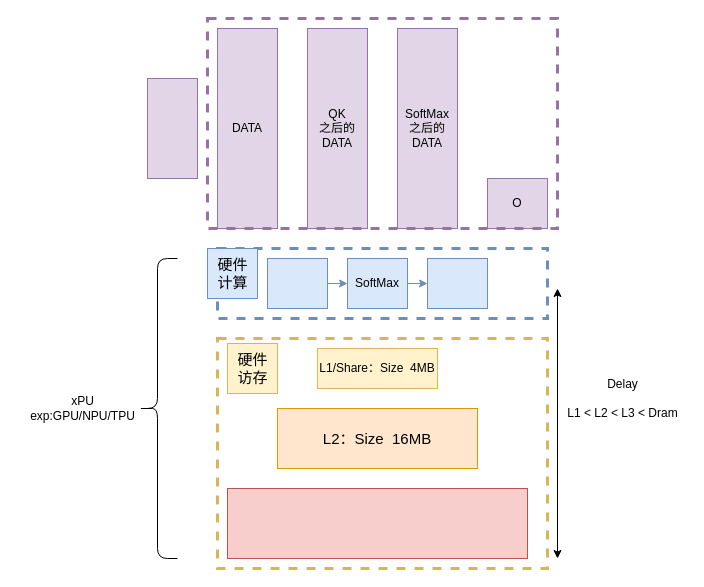
This 704x587 diagram has some shape labels left out. Each missing label, with the centre of its shape:
"L3/Dram：Size 非常大" belongs at [377,523].
"PV MAC" belongs at [457,283].
"QK MAC" belongs at [297,283].
"需要 计算 的 数据 大小" belongs at [172,128].
